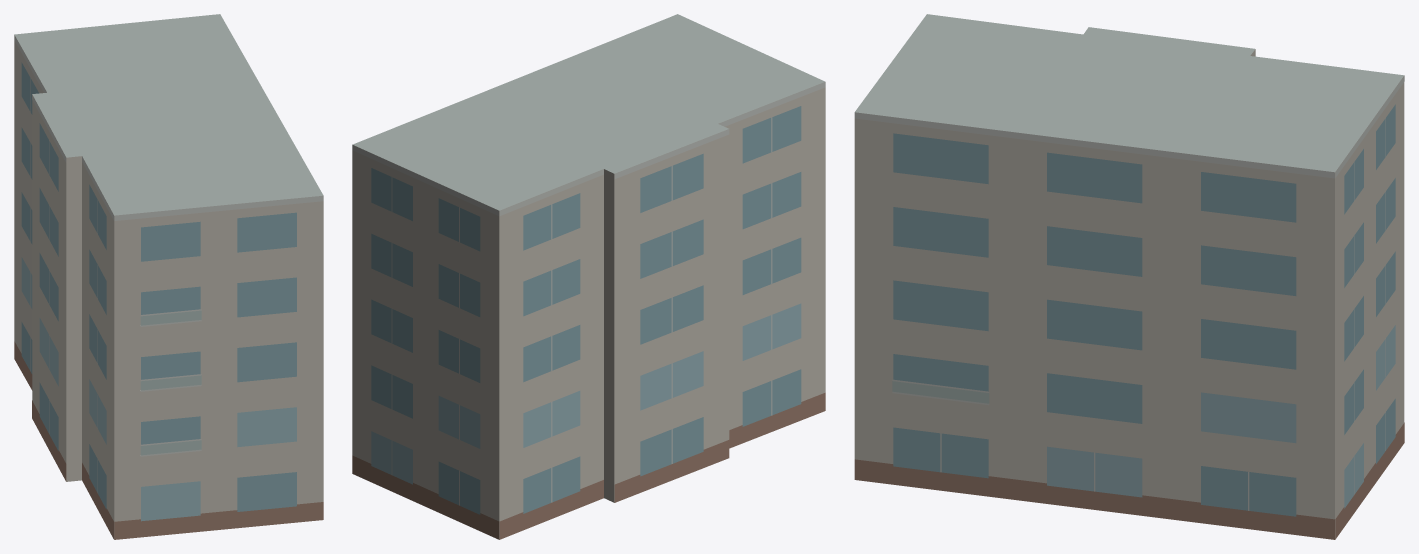
The model's file is survey-upis-32985182.glb.
3 views of the same model, side by side, from view 1: azimuth 30°, elevation 25°; view 2: azimuth 150°, elevation 25°; view 3: azimuth 270°, elevation 25° (orthographic). The views are drawn at different scales.
Parts seen in each view (by area): view 1: survey-upis-32985182.tmp; view 2: survey-upis-32985182.tmp; view 3: survey-upis-32985182.tmp.
Boxes of the visible parts, x1,y1,x2,y2 form: survey-upis-32985182.tmp: (14,14,323,539); survey-upis-32985182.tmp: (352,14,825,539); survey-upis-32985182.tmp: (854,14,1404,539).
Bounding box in the file's own units: 13.21 × 14.3 × 19.4.
